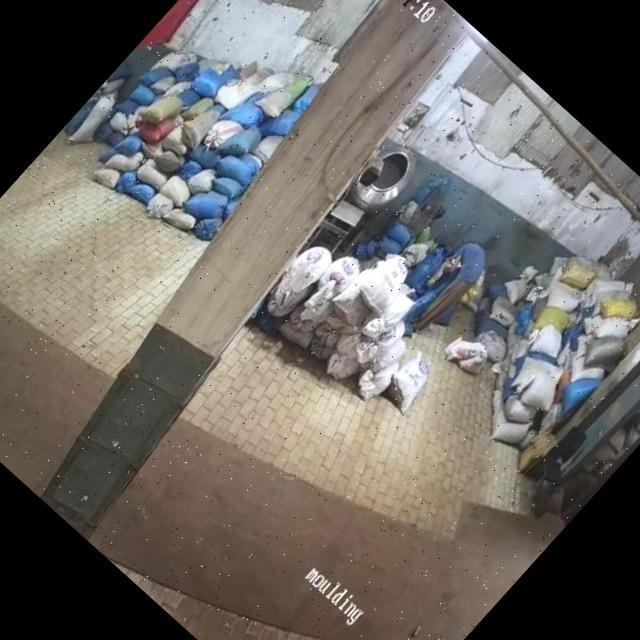person: (405, 240, 494, 334)
